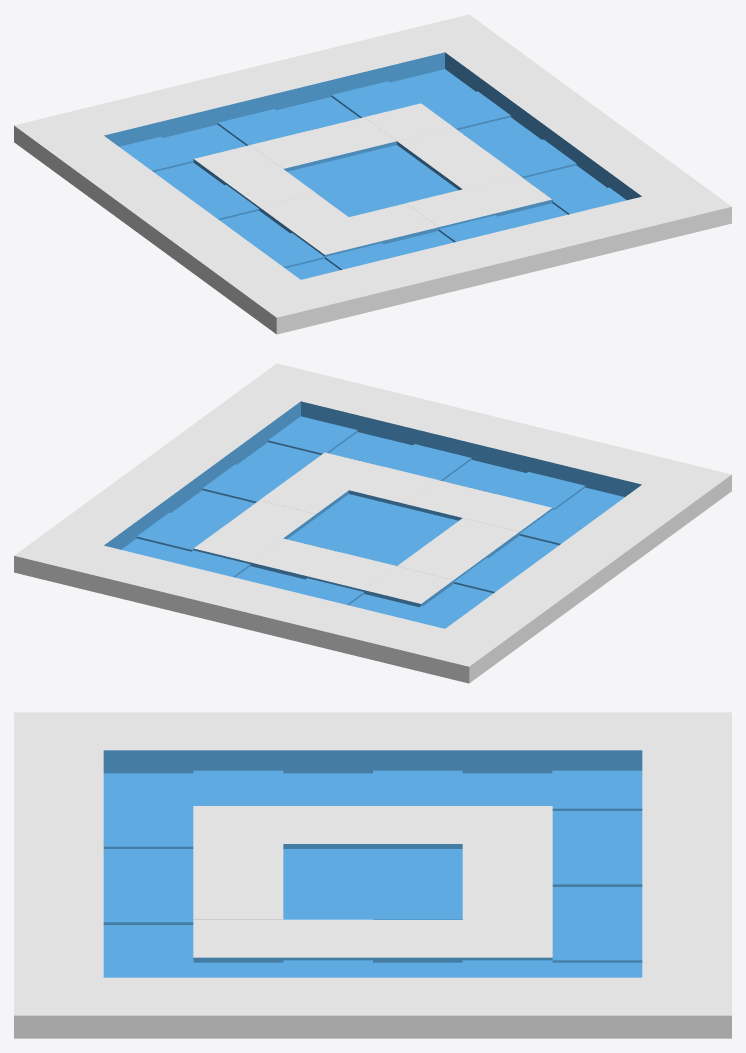
File: Pool.fbx
The picture shows the model from 3 angles, top to bottom: view 1: azimuth 30°, elevation 25°; view 2: azimuth 150°, elevation 25°; view 3: azimuth 270°, elevation 25°; orthographic projection. The views are drawn at different scales.
Parts seen in each view (by area): view 1: Pool; view 2: Pool; view 3: Pool.
Part boxes in pixels (box(x1,y1,x2,y2)): Pool: box(14, 14, 731, 334); Pool: box(14, 363, 731, 683); Pool: box(14, 712, 731, 1038).
Size of the model in its own units: 403 by 14.21 by 403.
